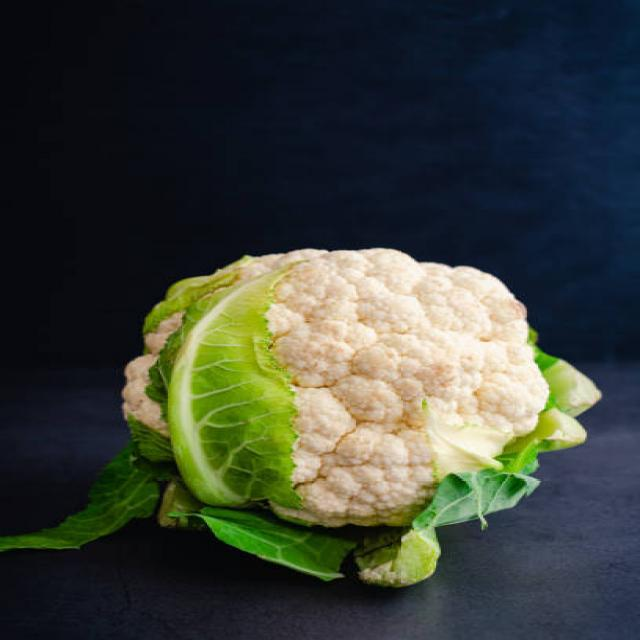cauliflower: (46, 180, 640, 602)
